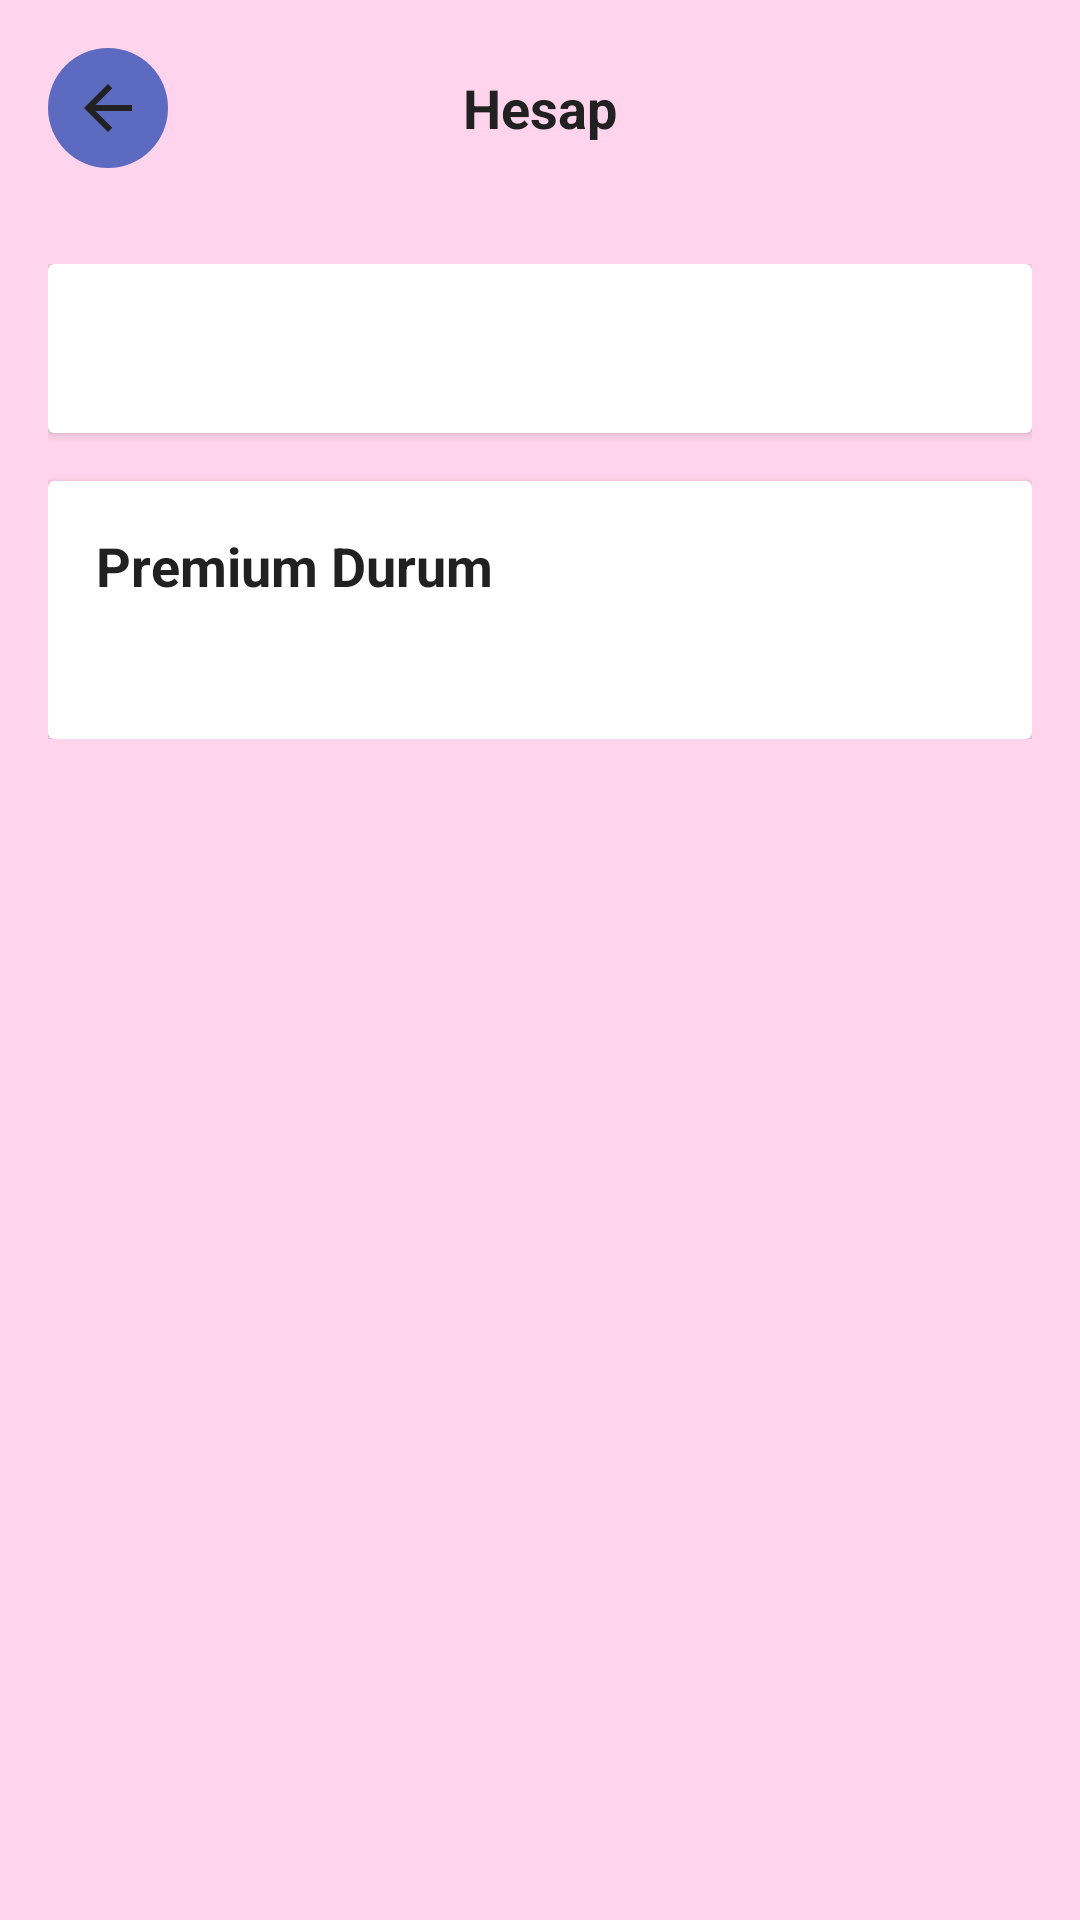

Screen size 1080w x 1920h. Icon name, then its center in pixels as [x,y]:
back: [108,108]
